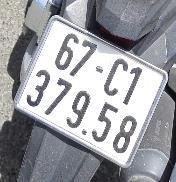1: (117, 63, 144, 108)
3: (22, 66, 54, 111)
5: (86, 99, 121, 148)
6: (49, 29, 83, 75)
7: (41, 75, 75, 123), (65, 36, 100, 82)
8: (109, 112, 142, 158)
9: (62, 86, 96, 133)
C: (99, 55, 133, 101)
